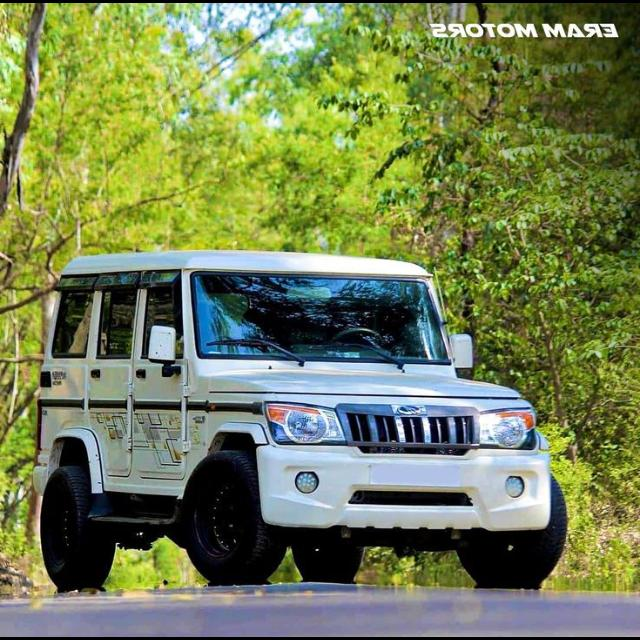vehicles: (34, 256, 576, 596)
